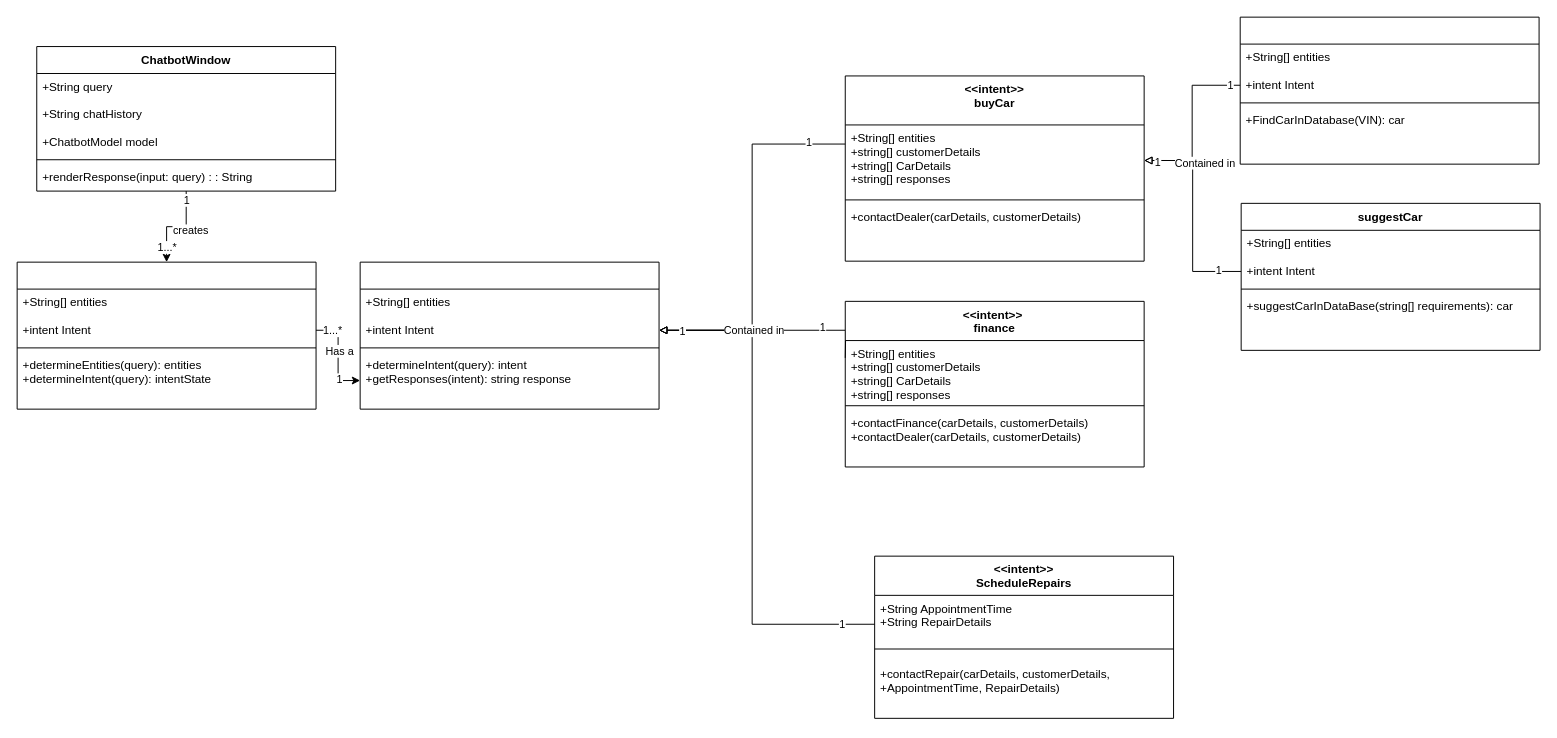
The diagram is 1557 pixels wide and 738 high, and some of its shapes have lost their labels. The box of each missing label's shape, as (x1, y1, x2, y2) in pixels:
buySpecific: (1239, 16, 1539, 164)
intentState: (359, 261, 659, 409)
renderResponse: (16, 261, 316, 409)
